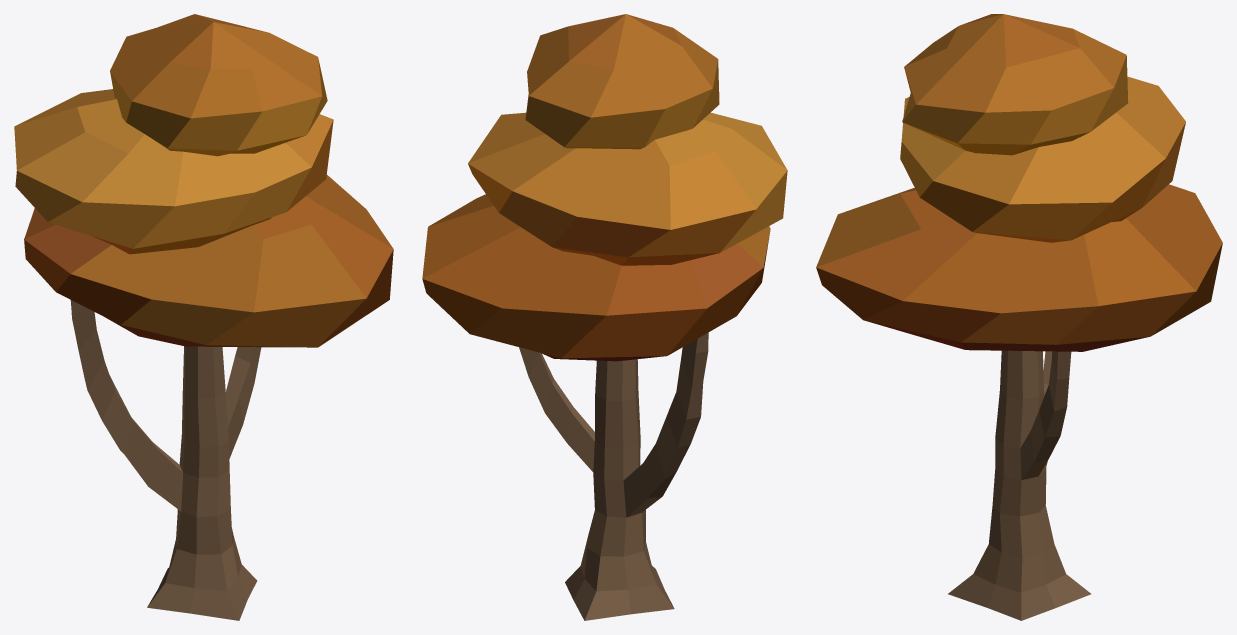
File: Autumn_Tree_2.glb
3 renders of one model, left to right at view 1: azimuth 30°, elevation 25°; view 2: azimuth 150°, elevation 25°; view 3: azimuth 270°, elevation 25°, orthographic.
Parts seen in each view (by area): view 1: Autumn_Tree_2; view 2: Autumn_Tree_2; view 3: Autumn_Tree_2.
Part boxes in pixels (box(x1,y1,x2,y2)): Autumn_Tree_2: box(14, 14, 393, 620); Autumn_Tree_2: box(422, 14, 787, 620); Autumn_Tree_2: box(816, 14, 1222, 620).
Size of the model in its own units: 2.96 by 5.13 by 3.24.
